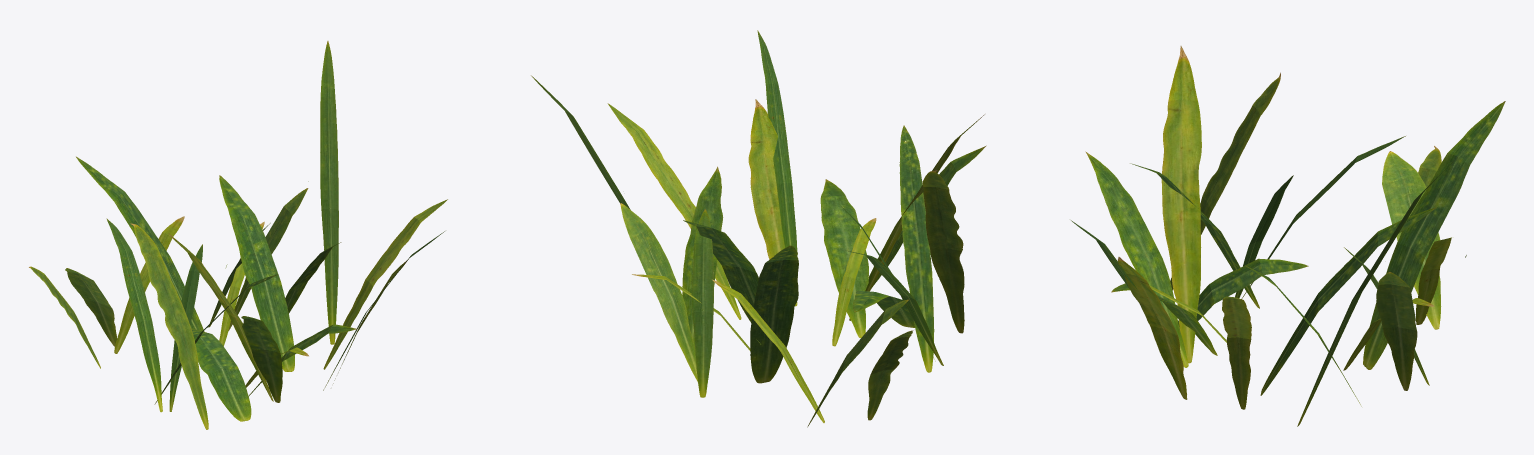
The model's file is grass_01.glb.
3 renders of one model, left to right at view 1: azimuth 30°, elevation 25°; view 2: azimuth 150°, elevation 25°; view 3: azimuth 270°, elevation 25°, orthographic. The views are drawn at different scales.
Visible parts, largest first — view 1: grass_01; view 2: grass_01; view 3: grass_01.
Part boxes in pixels (bbox=[...]): grass_01: bbox=[29, 41, 447, 429]; grass_01: bbox=[531, 30, 986, 427]; grass_01: bbox=[1071, 46, 1505, 426].
Bounding box in the file's own units: 1 × 0.6893 × 0.8742.
Materials: 1 (1 with a texture image).
